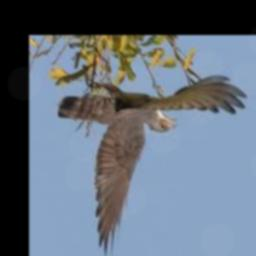Cuckoo: (57, 78, 246, 256)
